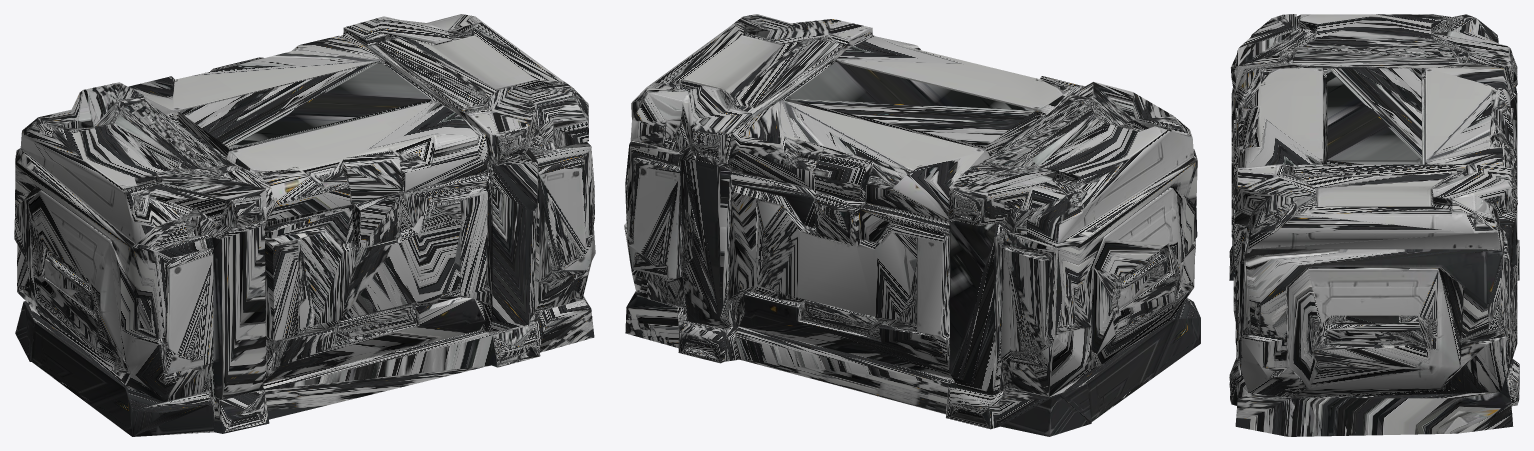
File: obj_futuristic_box.glb
The picture shows the model from 3 angles, left to right: view 1: azimuth 30°, elevation 25°; view 2: azimuth 150°, elevation 25°; view 3: azimuth 270°, elevation 25°; orthographic projection. The views are drawn at different scales.
Size of the model in its own units: 0.9526 by 0.458 by 0.5386.
1 material, 1 textured.
